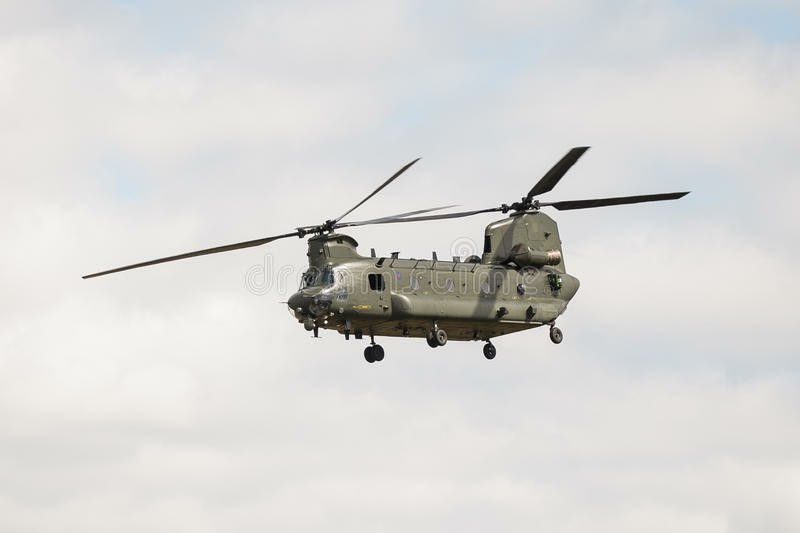chinook: (190, 146, 695, 370)
